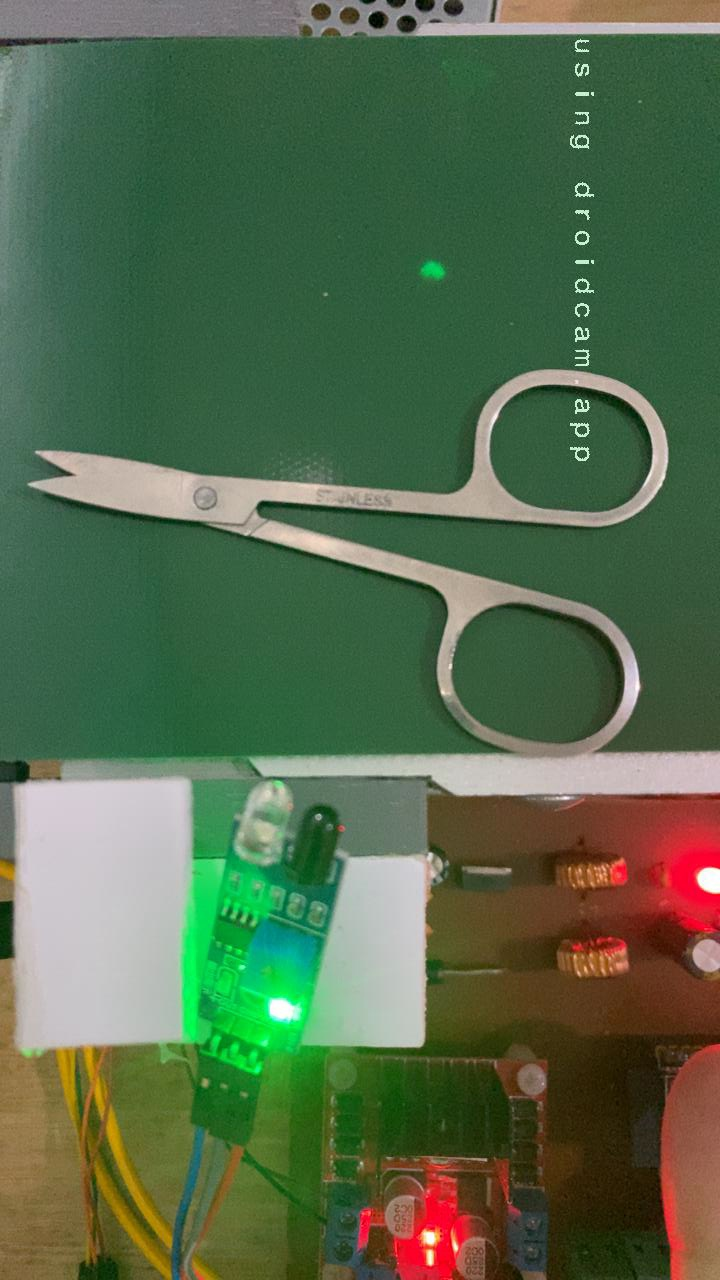scissor: (23, 363, 677, 757)
